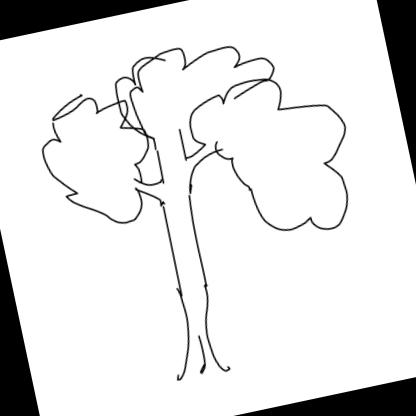crown_cloud: (30, 16, 366, 284)
trunk_straight: (156, 216, 218, 298)
